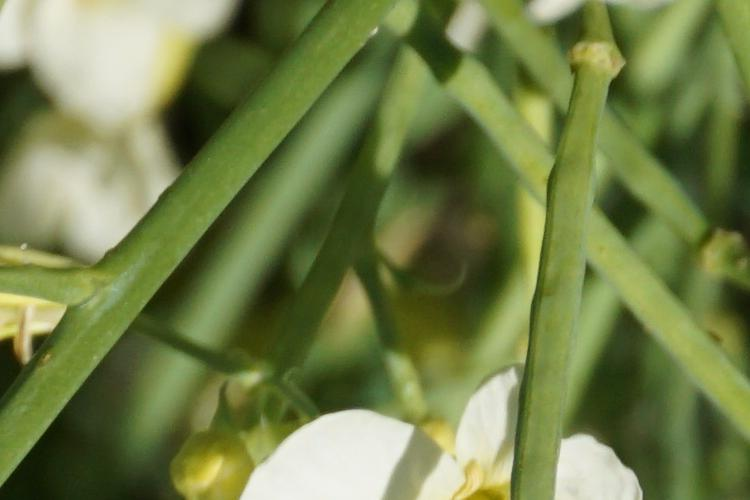white: (224, 363, 640, 500)
